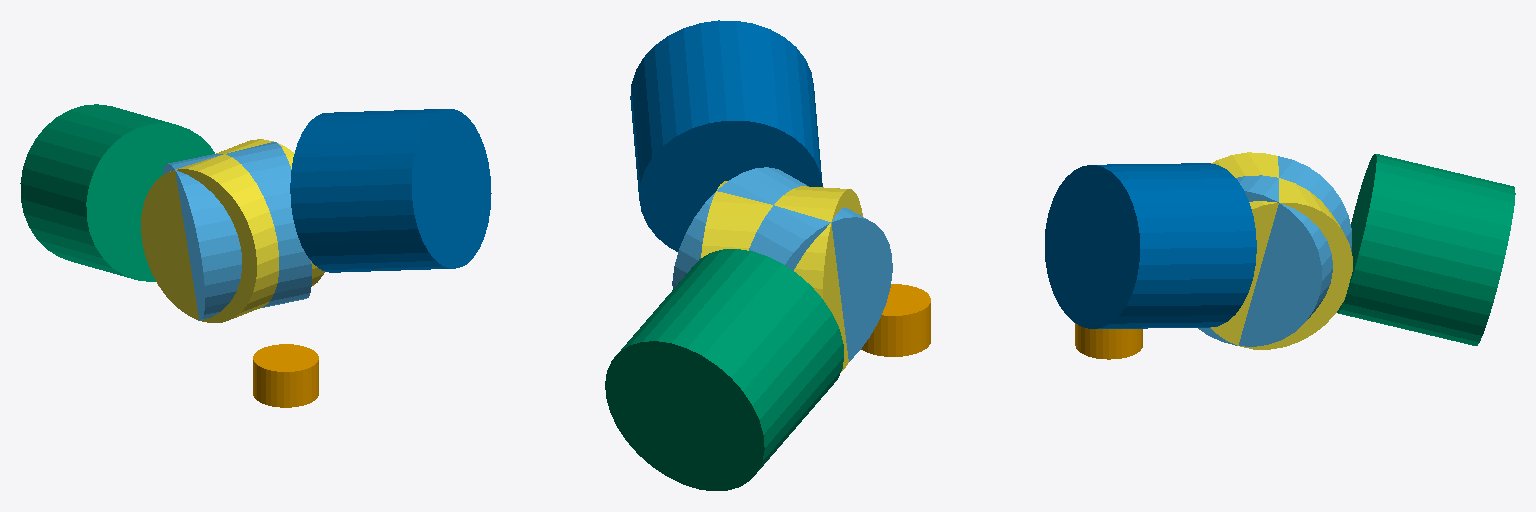
URDF robot description (pepe):
<?xml version="1.0"?><robot name="pepe">
	<link name="0">
		<visual>
			<geometry>
				<cylinder length="0.27120670624940035" radius="0.2275348090636057"/>
			</geometry>
		</visual>
		<collision>
			<geometry>
				<cylinder length="0.27120670624940035" radius="0.2275348090636057"/>
			</geometry>
		</collision>
		<inertial>
			<mass value="0.04411090711852326"/>
			<inertia ixx="0.03" iyy="0.03" izz="0.03" ixy="0" ixz="0" iyx="0"/>
		</inertial>
	</link>
	<link name="11">
		<visual>
			<geometry>
				<cylinder length="0.7624305583027201" radius="0.5524225636384362"/>
			</geometry>
		</visual>
		<collision>
			<geometry>
				<cylinder length="0.7624305583027201" radius="0.5524225636384362"/>
			</geometry>
		</collision>
		<inertial>
			<mass value="0.7309589452019797"/>
			<inertia ixx="0.03" iyy="0.03" izz="0.03" ixy="0" ixz="0" iyx="0"/>
		</inertial>
	</link>
	<link name="22">
		<visual>
			<geometry>
				<cylinder length="0.9624305583027201" radius="0.5524225636384362"/>
			</geometry>
		</visual>
		<collision>
			<geometry>
				<cylinder length="0.9624305583027201" radius="0.5524225636384362"/>
			</geometry>
		</collision>
		<inertial>
			<mass value="0.9227033440175778"/>
			<inertia ixx="0.03" iyy="0.03" izz="0.03" ixy="0" ixz="0" iyx="0"/>
		</inertial>
	</link>
	<link name="13">
		<visual>
			<geometry>
				<cylinder length="0.7624305583027201" radius="0.5524225636384362"/>
			</geometry>
		</visual>
		<collision>
			<geometry>
				<cylinder length="0.7624305583027201" radius="0.5524225636384362"/>
			</geometry>
		</collision>
		<inertial>
			<mass value="0.7309589452019797"/>
			<inertia ixx="0.03" iyy="0.03" izz="0.03" ixy="0" ixz="0" iyx="0"/>
		</inertial>
	</link>
	<link name="24">
		<visual>
			<geometry>
				<cylinder length="0.9624305583027201" radius="0.5524225636384362"/>
			</geometry>
		</visual>
		<collision>
			<geometry>
				<cylinder length="0.9624305583027201" radius="0.5524225636384362"/>
			</geometry>
		</collision>
		<inertial>
			<mass value="0.9227033440175778"/>
			<inertia ixx="0.03" iyy="0.03" izz="0.03" ixy="0" ixz="0" iyx="0"/>
		</inertial>
	</link>
	<joint name="11_to_0" type="revolute">
		<parent link="0"/>
		<child link="11"/>
		<axis xyz="0 1 0"/>
		<limit effort="150" lower="-10" upper="10" velocity="1"/>
		<origin rpy="7.43777173410235 4.454722916675039 4.844197476267841" xyz="0.18905019629775435 0.9999 0.6496250050577455"/>
	</joint>
	<joint name="22_to_11" type="revolute">
		<parent link="11"/>
		<child link="22"/>
		<axis xyz="0 0 1"/>
		<limit effort="150" lower="-10" upper="10" velocity="1"/>
		<origin rpy="8.694408795538267 5.083041447392998 5.472516006985798" xyz="0.18905019629775435 0.9999 0.5496250050577455"/>
	</joint>
	<joint name="13_to_0" type="revolute">
		<parent link="0"/>
		<child link="13"/>
		<axis xyz="0 1 0"/>
		<limit effort="150" lower="-10" upper="10" velocity="1"/>
		<origin rpy="11.156657601153526 4.454722916675039 4.844197476267841" xyz="0.18905019629775435 0.9999 0.6496250050577455"/>
	</joint>
	<joint name="24_to_13" type="revolute">
		<parent link="13"/>
		<child link="24"/>
		<axis xyz="0 0 1"/>
		<limit effort="150" lower="-10" upper="10" velocity="1"/>
		<origin rpy="8.694408795538267 5.083041447392998 5.472516006985798" xyz="0.18905019629775435 0.9999 0.5496250050577455"/>
	</joint>
</robot>

--- Render facts (derived) ---
3 views of the same robot in one strip: view 1: azimuth 30°, elevation 25°; view 2: azimuth 150°, elevation 25°; view 3: azimuth 270°, elevation 25° (orthographic).
Model pepe with 5 links and 4 joints (4 revolute), rooted at 0, posed all joints at 0.
Links seen in each view (by area): view 1: 24, 22, 13, 11, 0; view 2: 22, 24, 11, 13, 0; view 3: 24, 22, 11, 13, 0.
Link boxes in pixels (bbox=[...]): 24: bbox=[290, 109, 491, 272]; 22: bbox=[20, 104, 214, 281]; 13: bbox=[141, 139, 324, 322]; 11: bbox=[163, 142, 311, 320]; 0: bbox=[253, 344, 318, 407]; 22: bbox=[605, 249, 843, 490]; 24: bbox=[630, 20, 822, 251]; 11: bbox=[672, 167, 892, 361]; 13: bbox=[701, 181, 862, 371]; 0: bbox=[861, 284, 930, 356]; 24: bbox=[1045, 163, 1256, 328]; 22: bbox=[1337, 154, 1515, 345]; 11: bbox=[1198, 156, 1351, 346]; 13: bbox=[1211, 152, 1352, 349]; 0: bbox=[1075, 323, 1142, 359].
Size in the robot's own frame: 2.33 by 3.16 by 1.85 metres.
Geometry: primitives only (box / cylinder / sphere), no mesh files.
